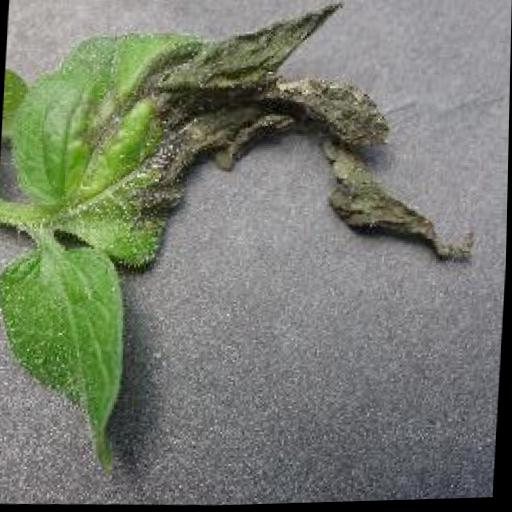Healthy: (0, 238, 134, 476)
Late Blight: (7, 0, 495, 281)
